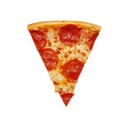pepperonipizza: (24, 19, 104, 108)
